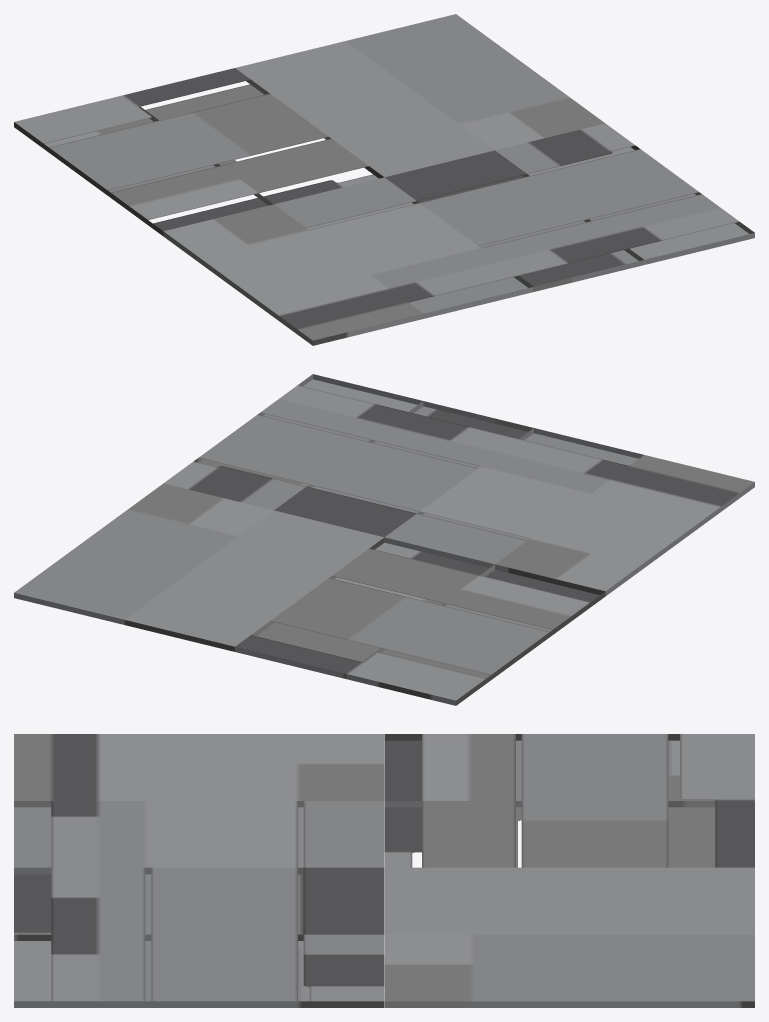
3 renders of one model, top to bottom at view 1: azimuth 30°, elevation 25°; view 2: azimuth 150°, elevation 25°; view 3: azimuth 270°, elevation 25°, orthographic. The views are drawn at different scales.
Bounding box in the file's own units: 4.18 × 0.0477 × 4.9.
